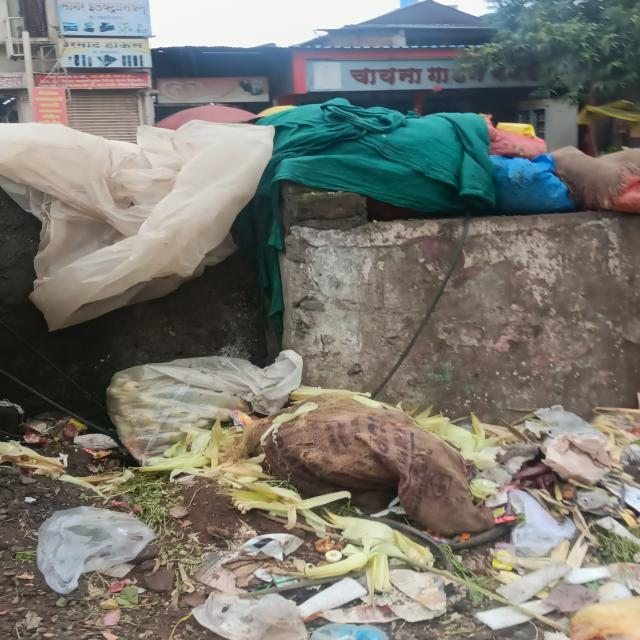garbage: (112, 352, 640, 640)
